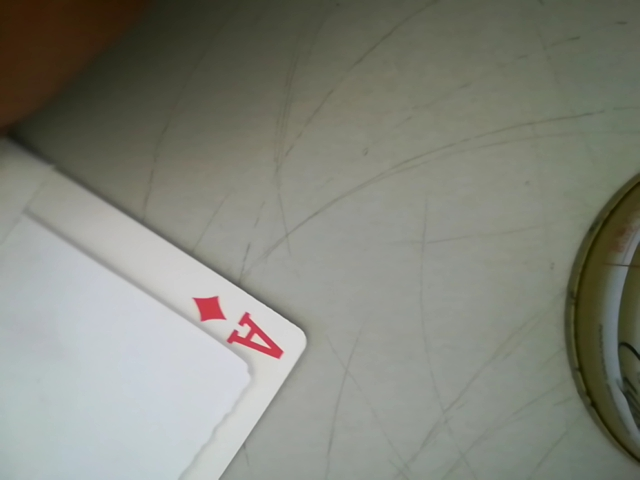fk a: (176, 283, 290, 365)
